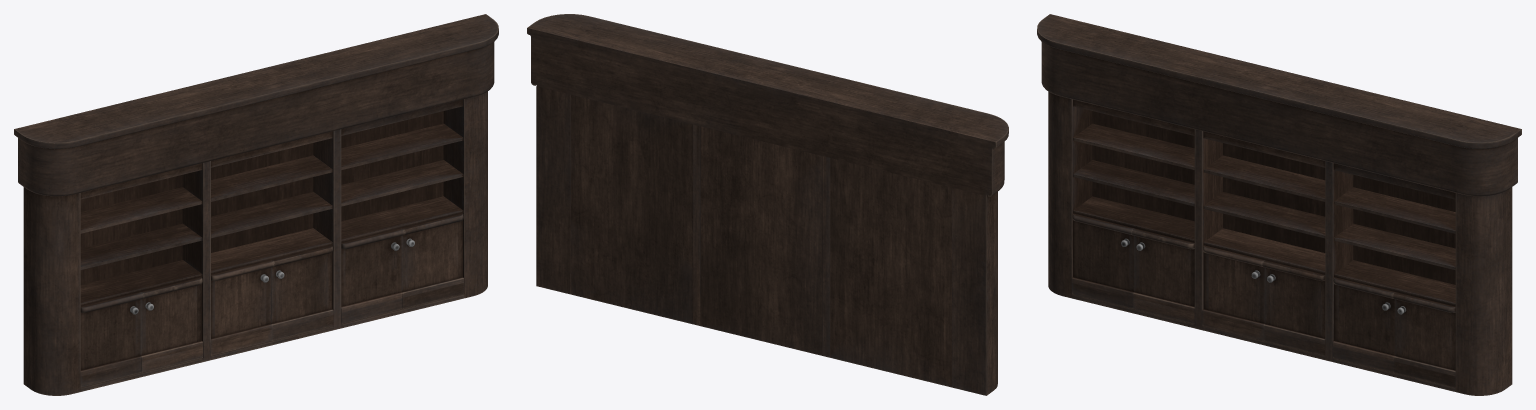
File: cabinet.glb
3 renders of one model, left to right at view 1: azimuth 30°, elevation 25°; view 2: azimuth 150°, elevation 25°; view 3: azimuth 330°, elevation 25°, orthographic.
Parts seen in each view (by area): view 1: Bar Cabinet, BarCabinetDoor_1R, BarCabinetDoor_3R, BarCabinetDoor_2R, BarCabinetDoor_1L, BarCabinetDoor_3L, BarCabinetDoor_2L; view 2: Bar Cabinet; view 3: Bar Cabinet, BarCabinetDoor_1L, BarCabinetDoor_2L, BarCabinetDoor_3L, BarCabinetDoor_2R, BarCabinetDoor_3R, BarCabinetDoor_1R.
Part boxes in pixels (<box>): Bar Cabinet: <box>14,14,498,395</box>; BarCabinetDoor_1R: <box>140,277,202,372</box>; BarCabinetDoor_3R: <box>401,213,463,308</box>; BarCabinetDoor_2R: <box>271,245,333,340</box>; BarCabinetDoor_1L: <box>80,292,143,387</box>; BarCabinetDoor_3L: <box>341,228,404,323</box>; BarCabinetDoor_2L: <box>211,260,273,355</box>; Bar Cabinet: <box>527,14,1008,395</box>; Bar Cabinet: <box>1037,14,1521,395</box>; BarCabinetDoor_1L: <box>1072,213,1134,308</box>; BarCabinetDoor_2L: <box>1202,245,1264,340</box>; BarCabinetDoor_3L: <box>1333,277,1395,372</box>; BarCabinetDoor_2R: <box>1262,260,1325,355</box>; BarCabinetDoor_3R: <box>1392,292,1455,387</box>; BarCabinetDoor_1R: <box>1131,228,1194,323</box>.
Size of the model in its own units: 6.14 by 3.2 by 0.625.
1 material, 1 textured.
